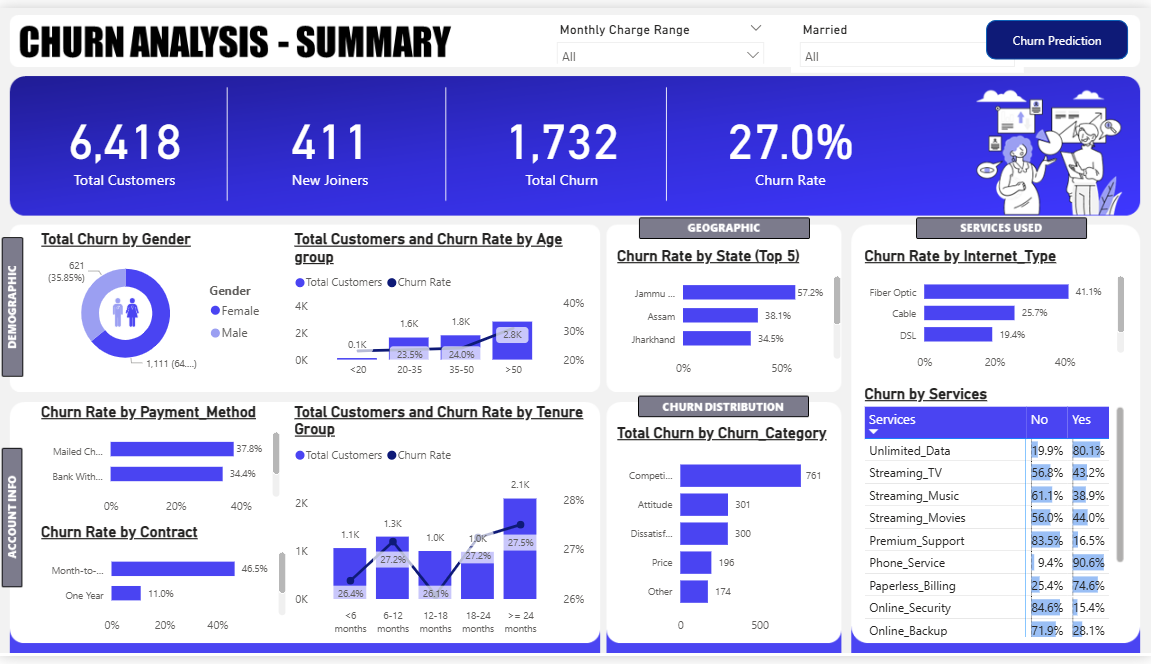

What the dashboard file says about the page in this screenshot:
{"tool":"powerbi","page":{"name":"Summary","canvas":[1280,720],"ordinal":0},"visuals":[{"type":"image","box":[98.3,311.7,85,51.7],"z":0},{"type":"card","fields":{"Values":["tbl_measures.Total Customers"]},"box":[21.7,85,235,133.3],"z":1000},{"type":"card","fields":{"Values":["tbl_measures.New Joiners"]},"box":[256.7,85,221.7,133.3],"z":2000},{"type":"card","fields":{"Values":["tbl_measures.Total Churn"]},"box":[511.7,85,226.7,133.3],"z":3000},{"type":"card","fields":{"Values":["tbl_measures.Churn Rate"]},"box":[758.3,85,241.7,133.3],"z":4000},{"type":"donutChart","fields":{"Category":["prod_Churn.Gender"],"Y":["tbl_measures.Total Churn"]},"box":[41.7,246.7,263.3,165],"z":5000},{"type":"lineStackedColumnComboChart","fields":{"Category":["mapping_Agegrp.Age group"],"Y":["tbl_measures.Total Customers"],"Y2":["tbl_measures.Churn Rate"]},"box":[323.3,246.7,331.7,171.7],"z":6000},{"type":"clusteredBarChart","fields":{"Category":["prod_Churn.Payment_Method"],"Y":["tbl_measures.Churn Rate"]},"box":[41.7,438.3,275,133.3],"z":7000},{"type":"clusteredBarChart","fields":{"Category":["prod_Churn.Contract"],"Y":["tbl_measures.Churn Rate"]},"box":[41.7,571.7,281.7,131.7],"z":8000},{"type":"lineStackedColumnComboChart","fields":{"Category":["mapping_Tenuregrp.Tenure Group"],"Y":["tbl_measures.Total Customers"],"Y2":["tbl_measures.Churn Rate"]},"box":[323.3,438.3,331.7,265],"z":9000},{"type":"clusteredBarChart","title":"Churn Rate by State (Top 5)","fields":{"Category":["prod_Churn.State"],"Y":["tbl_measures.Churn Rate"]},"box":[681.7,265,258.3,153.3],"z":10000},{"type":"clusteredBarChart","fields":{"Category":["prod_Churn.Churn_Category"],"Y":["tbl_measures.Total Churn"]},"box":[681.7,461.7,246.7,241.7],"z":11000},{"type":"clusteredBarChart","fields":{"Y":["tbl_measures.Churn Rate"],"Category":["prod_Churn.Internet_Type"]},"box":[956.7,265,298.3,146.7],"z":12000},{"type":"pivotTable","title":"Churn by Services","fields":{"Rows":["prod_Services.Services"],"Columns":["prod_Services.Status"],"Values":["Sum(prod_Services.Churn Status)"]},"box":[956.7,418.3,298.3,285],"z":13000},{"type":"slicer","fields":{"Values":["prod_Churn.Monthly Charge Status"]},"box":[610,10,250,51.7],"z":14000},{"type":"slicer","fields":{"Values":["prod_Churn.Married"]},"box":[880,10,258.3,61.7],"z":15000},{"type":"shape","box":[1096,14,158,44],"z":15001}]}

Visuals, with their boxes in screenshot pixels (x1, y1, x2, y2), scaled from the page's 1280x720 canvas onto the 1151x664 screenshot:
image: {"left": 88, "top": 287, "right": 165, "bottom": 335}
card - tbl_measures.Total Customers: {"left": 20, "top": 78, "right": 231, "bottom": 201}
card - tbl_measures.New Joiners: {"left": 231, "top": 78, "right": 430, "bottom": 201}
card - tbl_measures.Total Churn: {"left": 460, "top": 78, "right": 664, "bottom": 201}
card - tbl_measures.Churn Rate: {"left": 682, "top": 78, "right": 899, "bottom": 201}
donutChart - prod_Churn.Gender x tbl_measures.Total Churn: {"left": 37, "top": 228, "right": 274, "bottom": 380}
lineStackedColumnComboChart - mapping_Agegrp.Age group x tbl_measures.Total Customers: {"left": 291, "top": 228, "right": 589, "bottom": 386}
clusteredBarChart - prod_Churn.Payment_Method x tbl_measures.Churn Rate: {"left": 37, "top": 404, "right": 285, "bottom": 527}
clusteredBarChart - prod_Churn.Contract x tbl_measures.Churn Rate: {"left": 37, "top": 527, "right": 291, "bottom": 649}
lineStackedColumnComboChart - mapping_Tenuregrp.Tenure Group x tbl_measures.Total Customers: {"left": 291, "top": 404, "right": 589, "bottom": 649}
"Churn Rate by State (Top 5)" clusteredBarChart: {"left": 613, "top": 244, "right": 845, "bottom": 386}
clusteredBarChart - prod_Churn.Churn_Category x tbl_measures.Total Churn: {"left": 613, "top": 426, "right": 835, "bottom": 649}
clusteredBarChart - tbl_measures.Churn Rate x prod_Churn.Internet_Type: {"left": 860, "top": 244, "right": 1129, "bottom": 380}
"Churn by Services" pivotTable: {"left": 860, "top": 386, "right": 1129, "bottom": 649}
slicer - prod_Churn.Monthly Charge Status: {"left": 549, "top": 9, "right": 773, "bottom": 57}
slicer - prod_Churn.Married: {"left": 791, "top": 9, "right": 1024, "bottom": 66}
shape: {"left": 986, "top": 13, "right": 1128, "bottom": 53}
